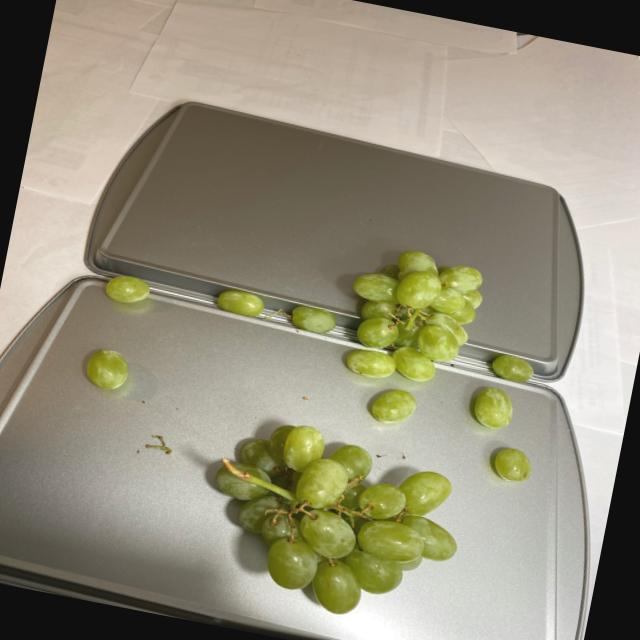grapes: (200, 225, 558, 639), (82, 269, 156, 394)
